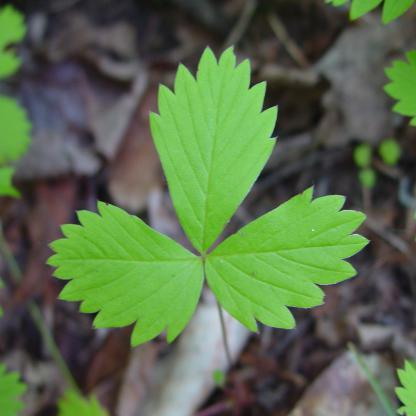Strawberry leaf: (149, 39, 285, 252), (201, 179, 372, 340), (41, 205, 206, 342)
